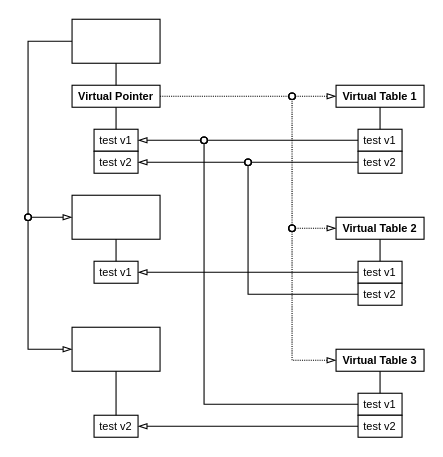
This 443x457 diagram has some shape labels left out. Each missing label, with the centre of its shape:
Client: point 115,216
Entity: point 115,40
Server: point 115,348
